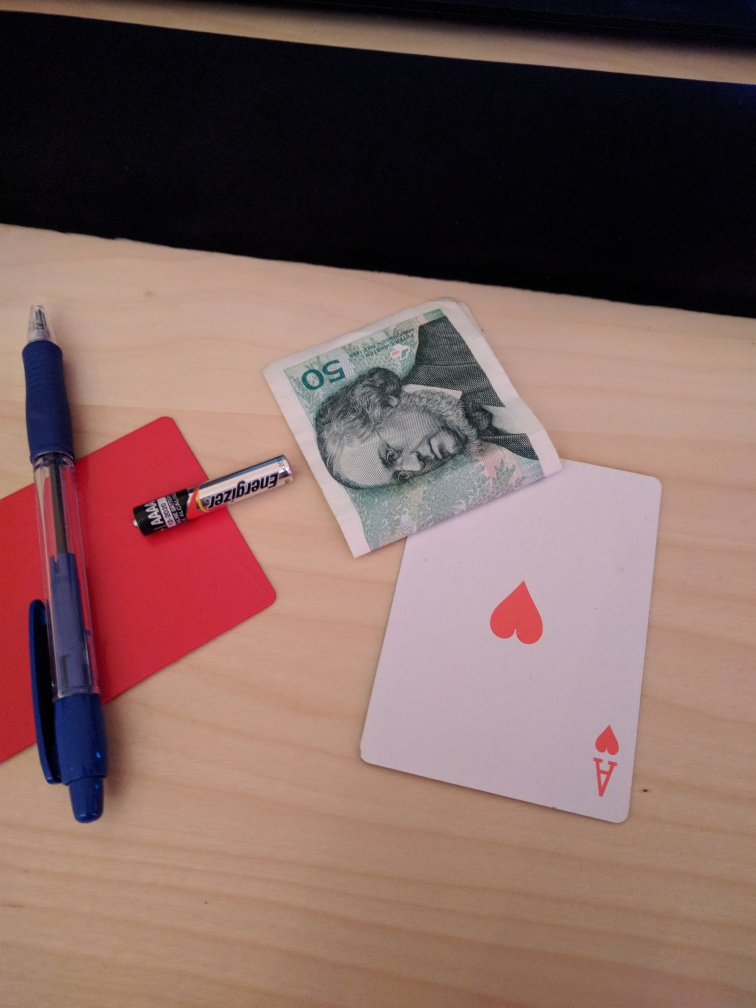ace: (359, 455, 663, 824)
